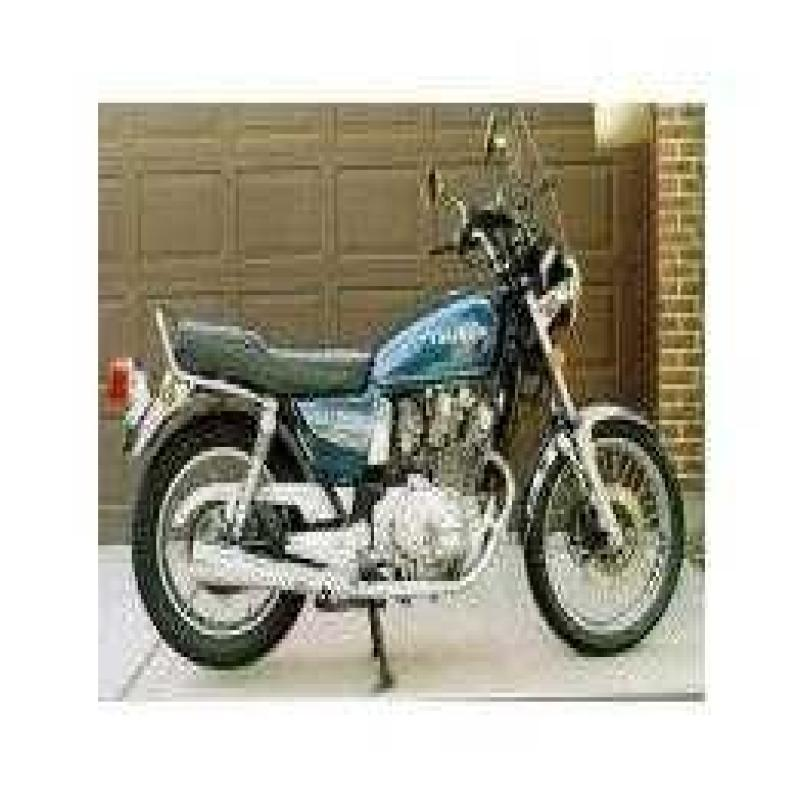bike: (113, 108, 697, 664)
